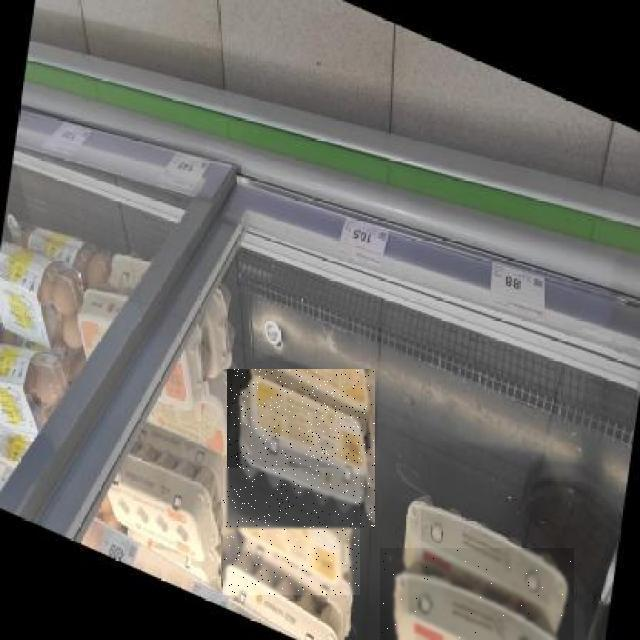Eggs: (227, 369, 375, 528), (380, 548, 574, 640), (223, 468, 360, 595)
